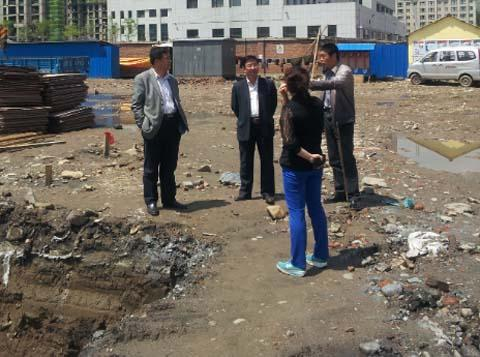boots: (276, 260, 306, 277), (304, 253, 328, 267), (233, 186, 250, 201), (162, 201, 187, 209), (327, 193, 346, 203), (145, 201, 158, 215), (349, 198, 361, 210), (263, 195, 274, 204)
person: (279, 42, 361, 208), (275, 67, 328, 277), (129, 44, 189, 215), (304, 42, 361, 208), (230, 54, 278, 203)
